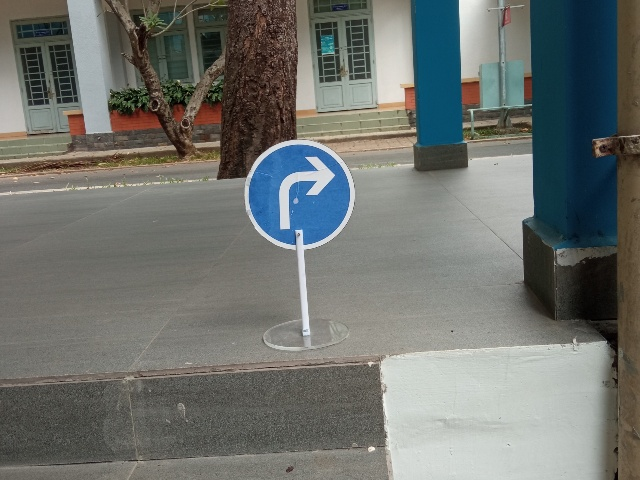Right_Sign: (243, 139, 356, 251)
